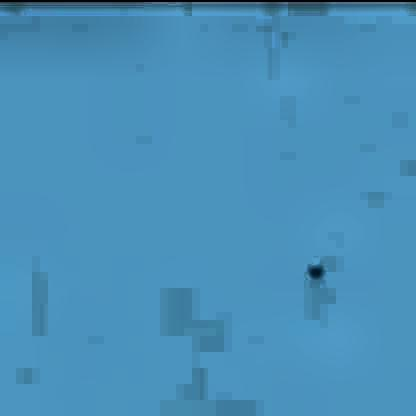golfball: (305, 258, 323, 277)
